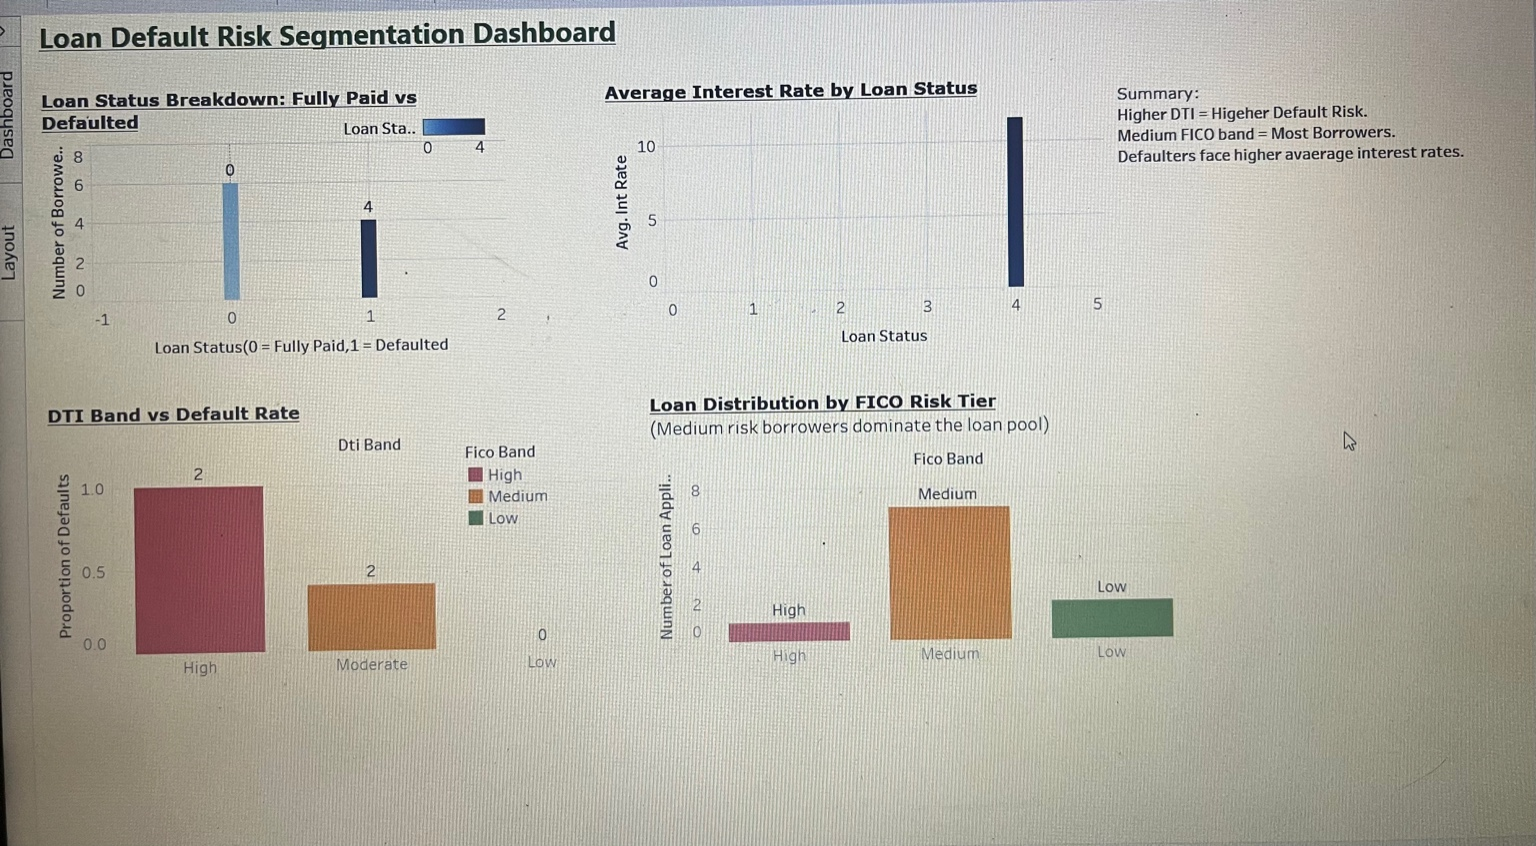

The page's visual inventory and layout, read from the dashboard file:
{"tool":"tableau","page":{"name":"Dashboard 4","canvas":[1000,1000],"units":"permille","ordinal":2},"visuals":[{"type":"text","box":[9.7,7.4,940,37]},{"type":"worksheet","title":"Average Interest Rate by Loan Status","mark":"Bar","rows":["int_rate"],"cols":["loan_status"],"box":[382.1,81.3,333.1,332.5]},{"type":"worksheet","title":"Loan Status Distribution","mark":"Bar","rows":["loan_status"],"cols":["loan_status"],"box":[10.3,83.7,308.3,332.5]},{"type":"text","box":[722.1,98.5,233.8,101]},{"type":"legend","title":"Loan Status Distribution","param":"[federated.05r96xt07szc781b2az5w0rhcb0i].[sum:loan_status:qk]","box":[211.7,123.2,96.5,45.6]},{"type":"worksheet","title":"FICO Score Distribution by Risk Tier","mark":"Automatic","rows":["loan_amnt"],"cols":["fico_band"],"box":[408.3,453.2,362.8,332.5]},{"type":"worksheet","title":"DTI Band vs Default Rate","mark":"Bar","rows":["loan_status"],"cols":["dti_band"],"box":[11,455.7,384.1,332.5]},{"type":"legend","title":"FICO Score Distribution by Risk Tier","param":"[federated.05r96xt07szc781b2az5w0rhcb0i].[none:fico_band:nk]","box":[288.3,511.1,96.5,104.7]}]}

Visuals, with their boxes on the dashboard's canvas, which has no fixed pixel size, in thousandths of its width and height (x1, y1, x2, y2). These are canvas units, not pixel positions in the 1536x846 screenshot, which may show the page scaled, cropped or inside an application window:
text: <bbox>10, 7, 950, 44</bbox>
"Average Interest Rate by Loan Status" worksheet (Bar marks): <bbox>382, 81, 715, 414</bbox>
"Loan Status Distribution" worksheet (Bar marks): <bbox>10, 84, 319, 416</bbox>
text: <bbox>722, 98, 956, 200</bbox>
"Loan Status Distribution" legend: <bbox>212, 123, 308, 169</bbox>
"FICO Score Distribution by Risk Tier" worksheet: <bbox>408, 453, 771, 786</bbox>
"DTI Band vs Default Rate" worksheet (Bar marks): <bbox>11, 456, 395, 788</bbox>
"FICO Score Distribution by Risk Tier" legend: <bbox>288, 511, 385, 616</bbox>
